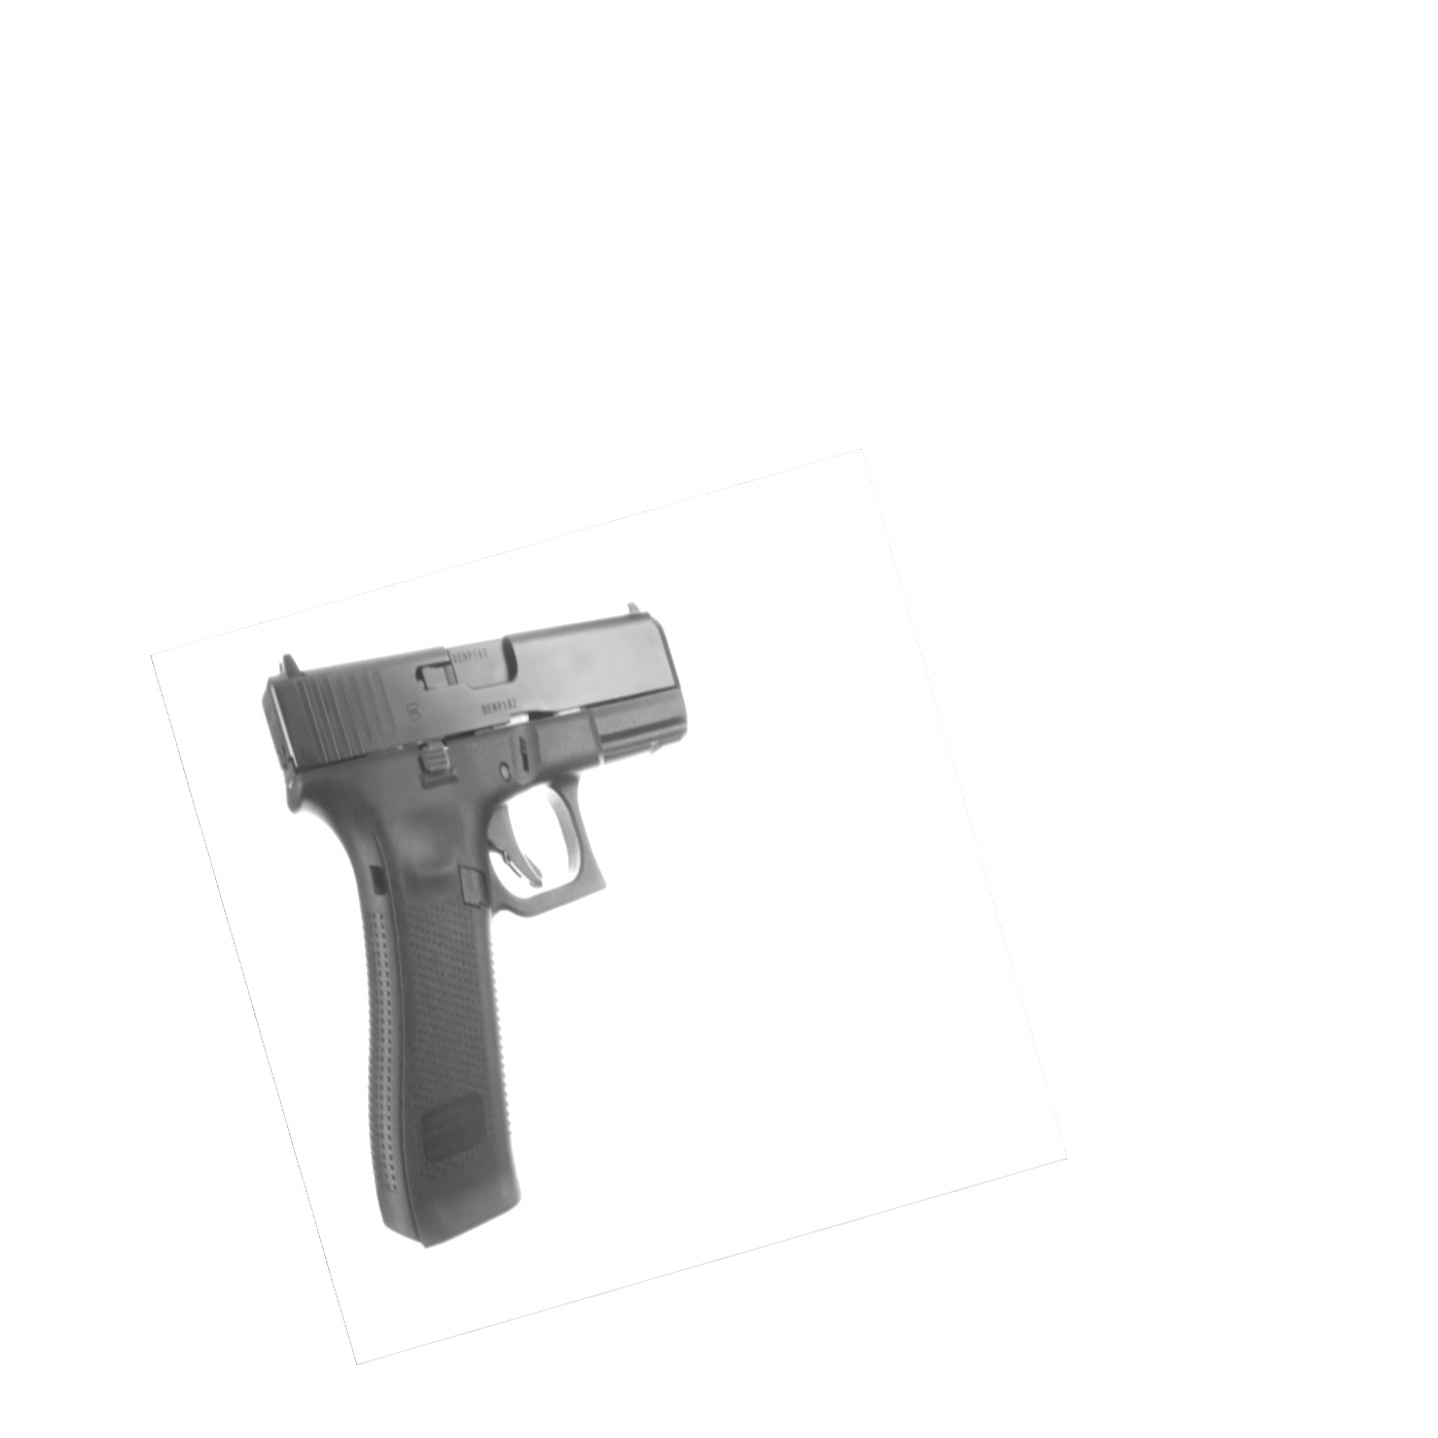gun: (250, 595, 705, 1256)
